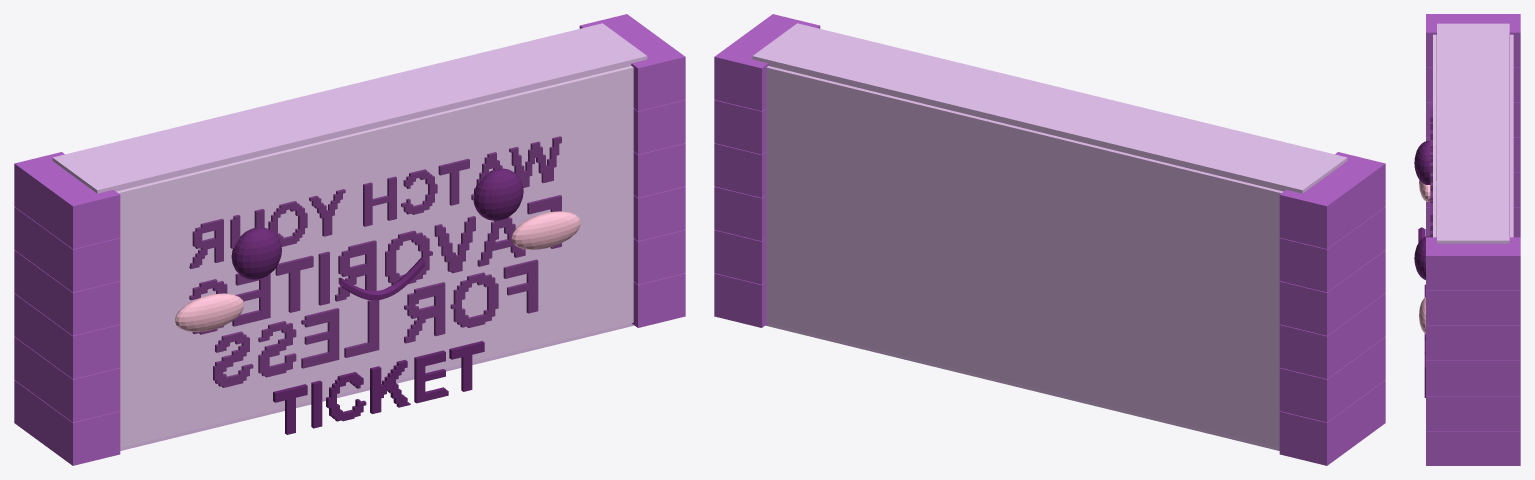
Rendered from lilac-ticket-mascot.glb.
3 views of the same model, side by side, from view 1: azimuth 30°, elevation 25°; view 2: azimuth 150°, elevation 25°; view 3: azimuth 270°, elevation 25° (orthographic). The views are drawn at different scales.
Parts seen in each view (by area): view 1: Front lilac face, Ticket body, Back message line 3, Back message line 2, Back message line 1, Left ticket notch 6, Front TICKET lettering, Left ticket notch 1, Left ticket notch 3, Left ticket notch 4, Left ticket notch 5, Left ticket notch 2 (+11 smaller); view 2: Back lilac face, Ticket body, Left ticket notch 6, Left ticket notch 1, Left ticket notch 3, Left ticket notch 4, Left ticket notch 5, Left ticket notch 2, Right ticket notch 6, Right ticket notch 1, Right ticket notch 3, Right ticket notch 2 (+2 smaller); view 3: Ticket body, Right ticket notch 6, Right ticket notch 3, Right ticket notch 4, Right ticket notch 5, Right ticket notch 1, Right ticket notch 2, Left ticket notch 6, Front lilac face, Back lilac face, Left eye, Left ticket notch 5 (+9 smaller).
Part boxes in pixels (box(x1,y1,x2,y2)): Front lilac face: box(116, 66, 633, 447); Ticket body: box(52, 23, 647, 450); Back message line 3: box(213, 259, 538, 387); Back message line 2: box(189, 195, 561, 334); Back message line 1: box(189, 136, 561, 268); Left ticket notch 6: box(14, 152, 120, 248); Front TICKET lettering: box(273, 341, 484, 434); Left ticket notch 1: box(14, 380, 120, 465); Left ticket notch 3: box(14, 293, 120, 378); Left ticket notch 4: box(14, 250, 120, 335); Left ticket notch 5: box(14, 206, 120, 292); Left ticket notch 2: box(14, 337, 120, 422); Back lilac face: box(766, 66, 1283, 447); Ticket body: box(752, 23, 1347, 450); Left ticket notch 6: box(1279, 152, 1385, 248); Left ticket notch 1: box(1279, 380, 1385, 465); Left ticket notch 3: box(1279, 293, 1385, 378); Left ticket notch 4: box(1279, 250, 1385, 335); Left ticket notch 5: box(1279, 206, 1385, 292); Left ticket notch 2: box(1279, 337, 1385, 422); Right ticket notch 6: box(714, 14, 820, 111); Right ticket notch 1: box(714, 273, 767, 327); Right ticket notch 3: box(714, 186, 766, 241); Right ticket notch 2: box(714, 230, 766, 284); Ticket body: box(1437, 23, 1509, 243); Right ticket notch 6: box(1426, 237, 1520, 290); Right ticket notch 3: box(1426, 360, 1520, 395); Right ticket notch 4: box(1426, 325, 1520, 360); Right ticket notch 5: box(1426, 290, 1520, 325); Right ticket notch 1: box(1426, 431, 1520, 465); Right ticket notch 2: box(1426, 396, 1520, 430); Left ticket notch 6: box(1426, 14, 1520, 67); Front lilac face: box(1433, 34, 1436, 237); Back lilac face: box(1510, 34, 1513, 237); Left eye: box(1414, 141, 1436, 184); Left ticket notch 5: box(1426, 67, 1520, 102).
Bounding box in the file's own units: 2.84 × 1.26 × 0.527.
